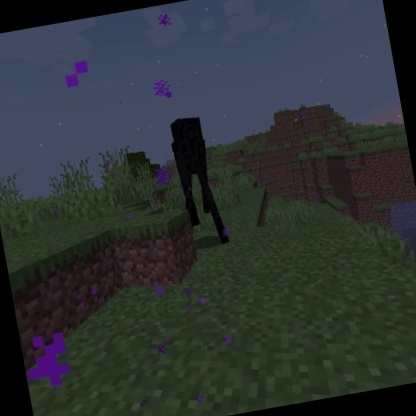enderman: (164, 111, 233, 253)
